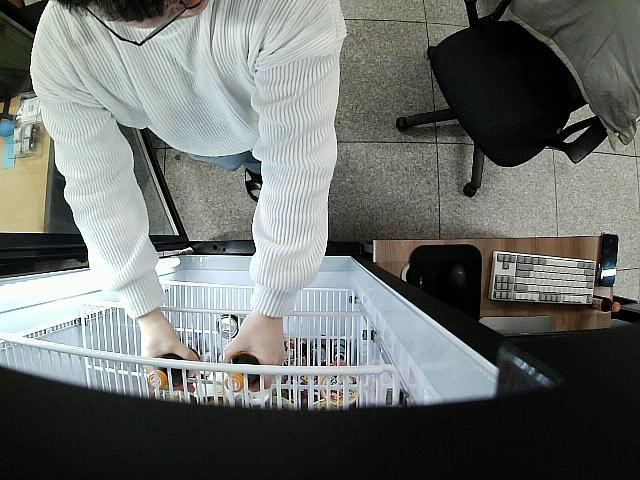17_vita500: (149, 350, 202, 389), (227, 354, 262, 392)
